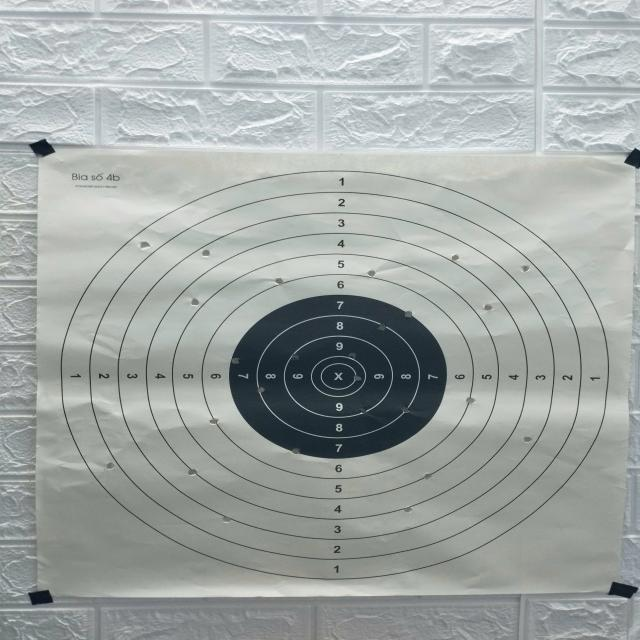bullet: (139, 241, 151, 250), (450, 254, 459, 262), (201, 249, 210, 257), (190, 298, 199, 306), (188, 468, 197, 476), (483, 304, 493, 311), (377, 324, 387, 331), (421, 473, 432, 479), (401, 406, 409, 414), (521, 265, 530, 272), (366, 270, 375, 277), (466, 397, 475, 404), (523, 436, 532, 443), (403, 506, 412, 513), (209, 418, 218, 425), (222, 516, 231, 523), (290, 448, 300, 454), (405, 310, 413, 317), (291, 353, 299, 360), (354, 373, 361, 381), (349, 352, 356, 359), (258, 386, 265, 393), (360, 407, 367, 414), (275, 278, 283, 284), (231, 358, 239, 364), (106, 463, 114, 469)
target: (37, 149, 633, 596)
